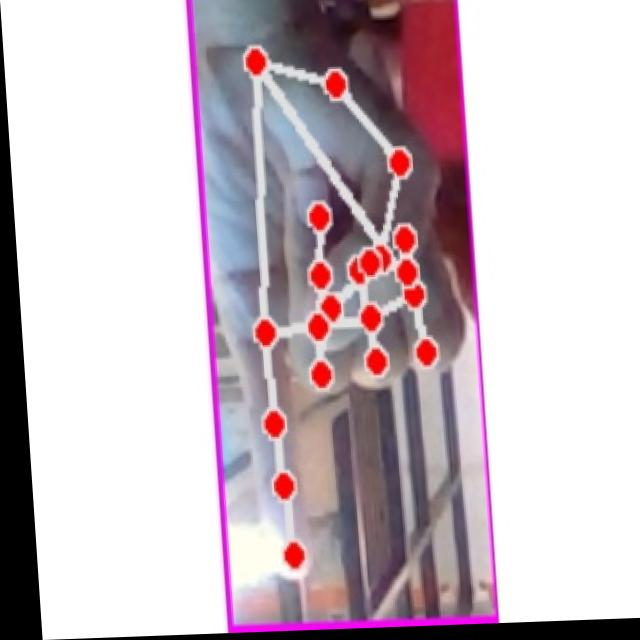I: (202, 31, 471, 584)
